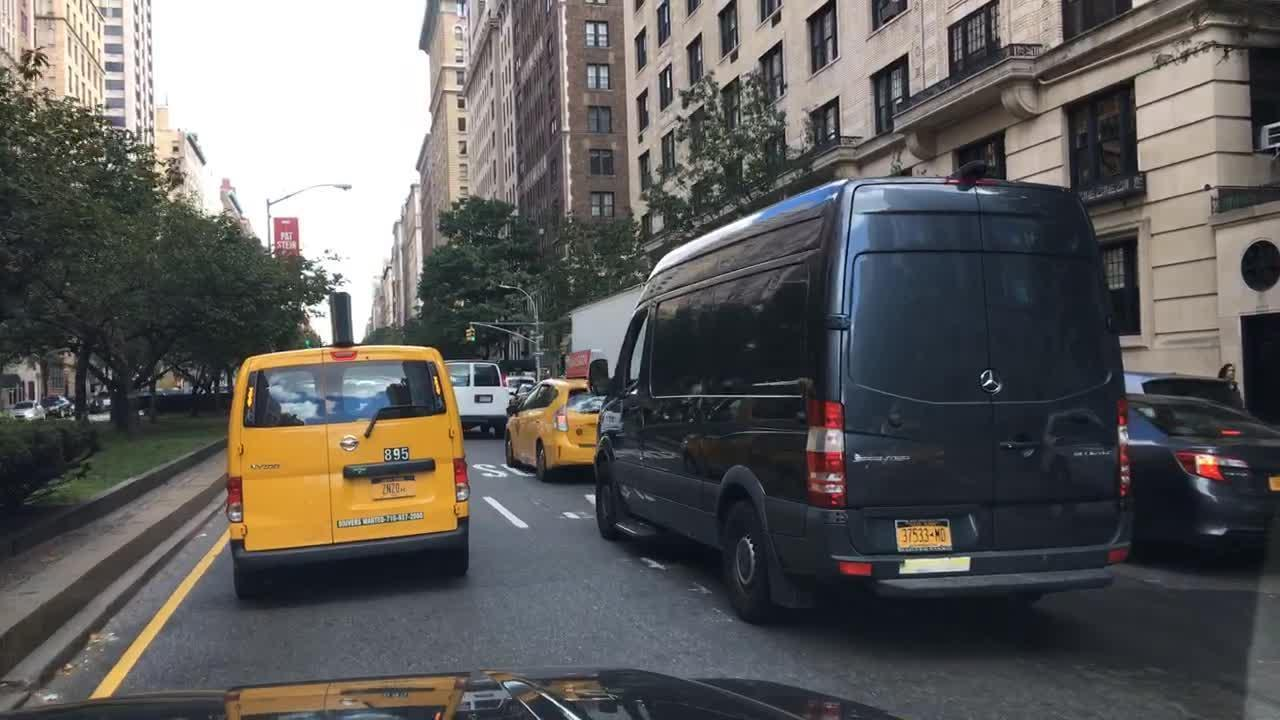Mercedes: (978, 363, 1007, 399)
